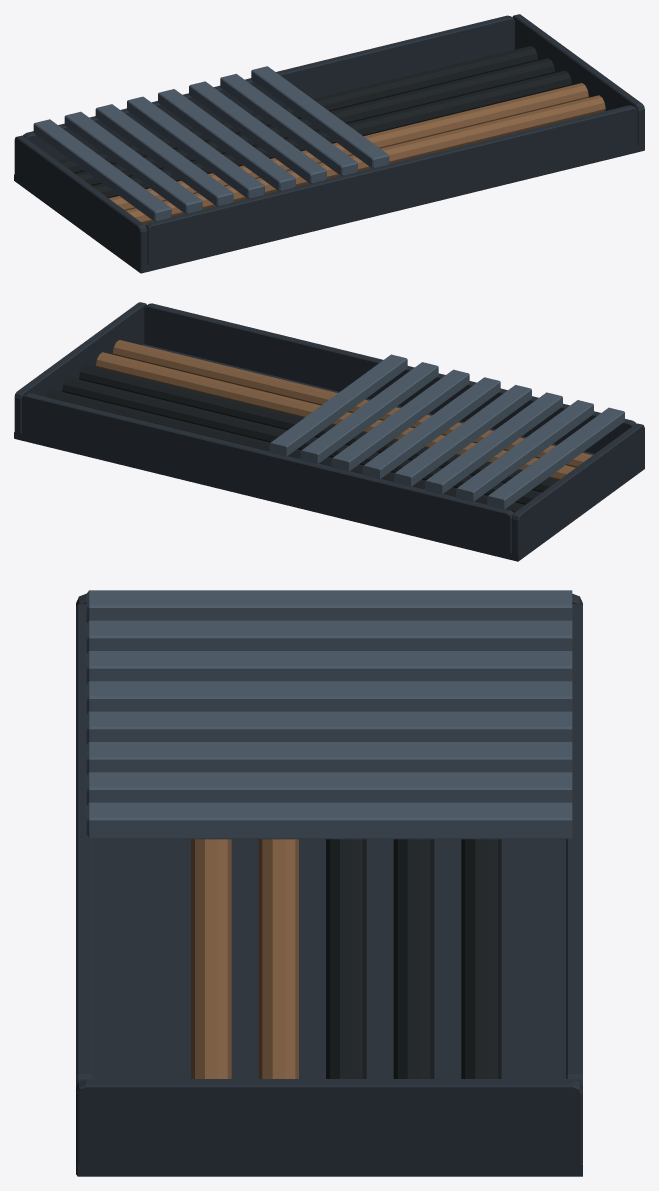
File: F-13_trench.glb
3 renders of one model, top to bottom at view 1: azimuth 30°, elevation 25°; view 2: azimuth 150°, elevation 25°; view 3: azimuth 270°, elevation 25°, orthographic. The views are drawn at different scales.
Parts seen in each view (by area): view 1: F-13_trench; view 2: F-13_trench; view 3: F-13_trench.
Boxes of the visible parts, left/top/right/bottom form: F-13_trench: left=14, top=14, right=644, bottom=273; F-13_trench: left=14, top=302, right=644, bottom=561; F-13_trench: left=76, top=590, right=582, bottom=1176.
Bounding box in the file's own units: 1.38 × 0.146 × 0.6.
